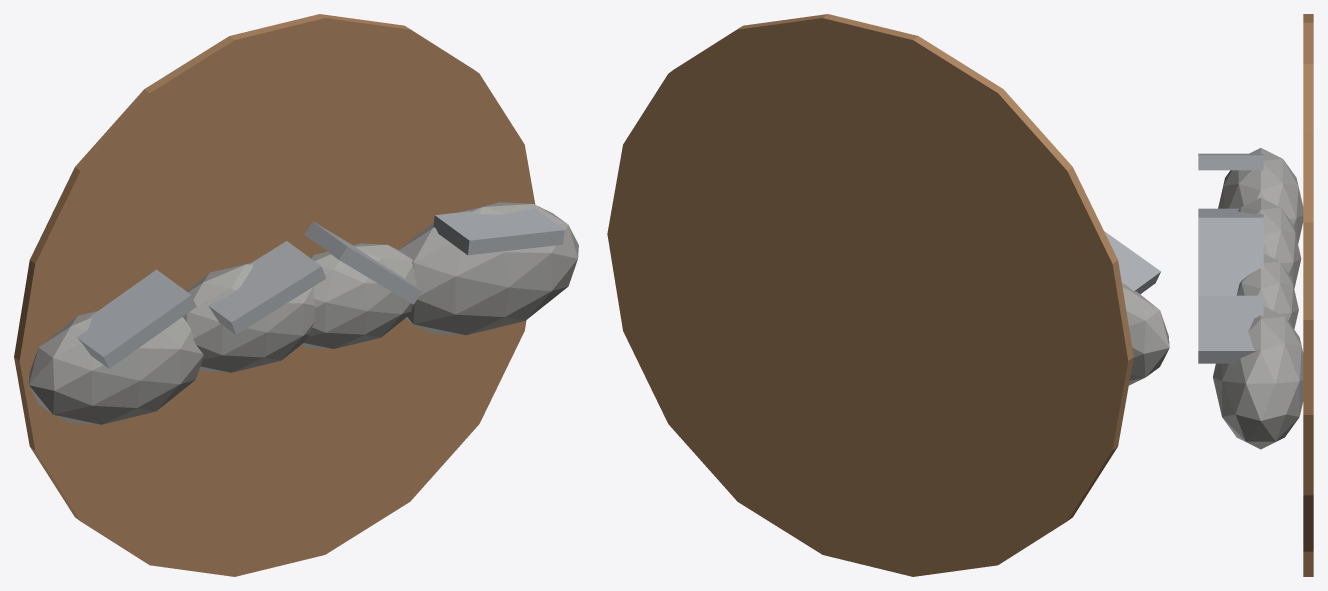
Rendered from 02_local_prop_cluster.glb.
3 views of the same model, side by side, from view 1: azimuth 30°, elevation 25°; view 2: azimuth 150°, elevation 25°; view 3: azimuth 270°, elevation 25° (orthographic). The views are drawn at different scales.
Parts seen in each view (by area): view 1: scatter_base, scrap_rock_3, scrap_rock_0, scrap_rock_1, scrap_rock_2, scrap_plate_0, scrap_plate_1, scrap_plate_3, scrap_plate_2; view 2: scatter_base, scrap_rock_0, scrap_plate_0; view 3: scrap_rock_3, scatter_base, scrap_plate_2, scrap_plate_3, scrap_rock_0, scrap_rock_1, scrap_rock_2, scrap_plate_0, scrap_plate_1.
Boxes of the visible parts, x1,y1,x2,y2 form: scatter_base: (14, 14, 535, 576); scrap_rock_3: (399, 202, 578, 335); scrap_rock_0: (29, 311, 203, 424); scrap_rock_1: (183, 262, 314, 372); scrap_rock_2: (301, 243, 416, 348); scrap_plate_0: (77, 269, 196, 368); scrap_plate_1: (208, 241, 325, 334); scrap_plate_3: (433, 207, 564, 255); scrap_plate_2: (304, 221, 421, 304); scatter_base: (607, 14, 1133, 576); scrap_rock_0: (1122, 283, 1169, 385); scrap_plate_0: (1104, 231, 1160, 294); scrap_rock_3: (1213, 306, 1303, 449); scatter_base: (1303, 14, 1313, 576); scrap_plate_2: (1198, 217, 1263, 295); scrap_plate_3: (1198, 295, 1263, 363); scrap_rock_0: (1218, 148, 1303, 243); scrap_rock_1: (1238, 197, 1301, 288); scrap_rock_2: (1236, 254, 1298, 329); scrap_plate_0: (1198, 153, 1263, 170); scrap_plate_1: (1198, 208, 1263, 217).
Size of the model in its own units: 2.01 by 1.87 by 0.3875.
